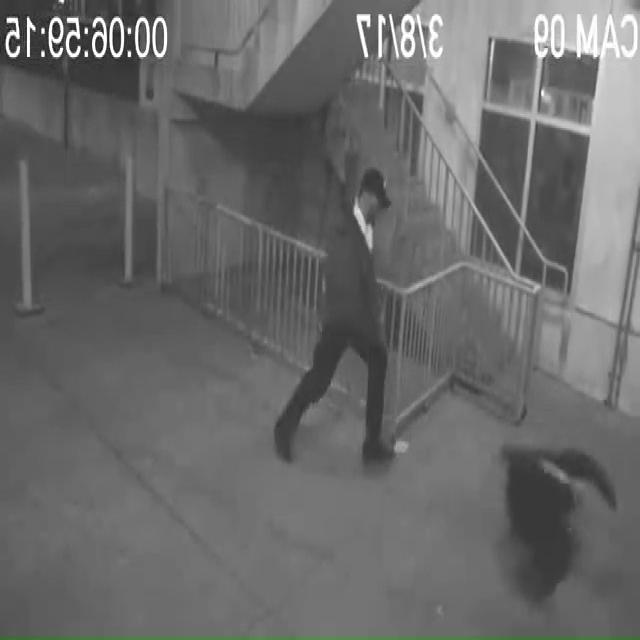fight: (306, 164, 618, 597)
